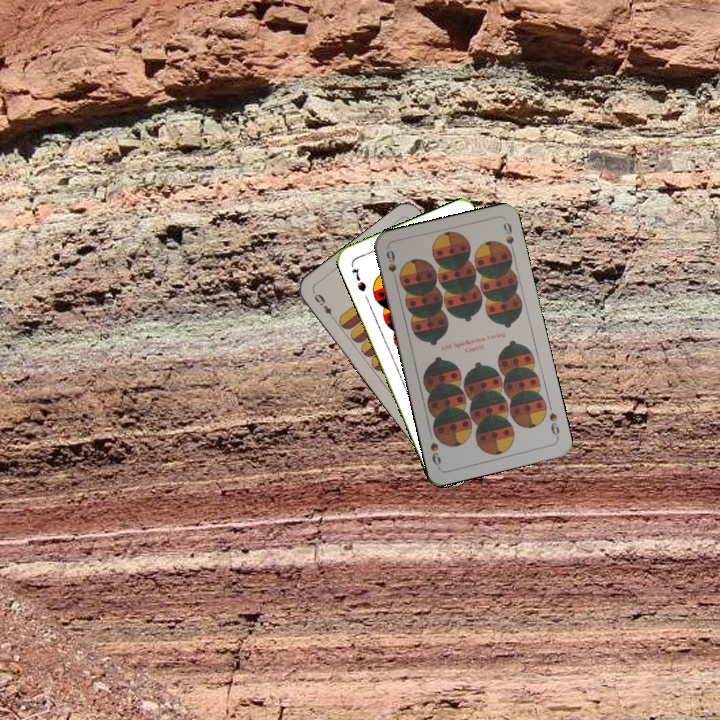E9: (309, 288, 338, 323)
S7: (348, 264, 369, 294)
S9: (382, 246, 404, 286), (545, 408, 562, 441)
